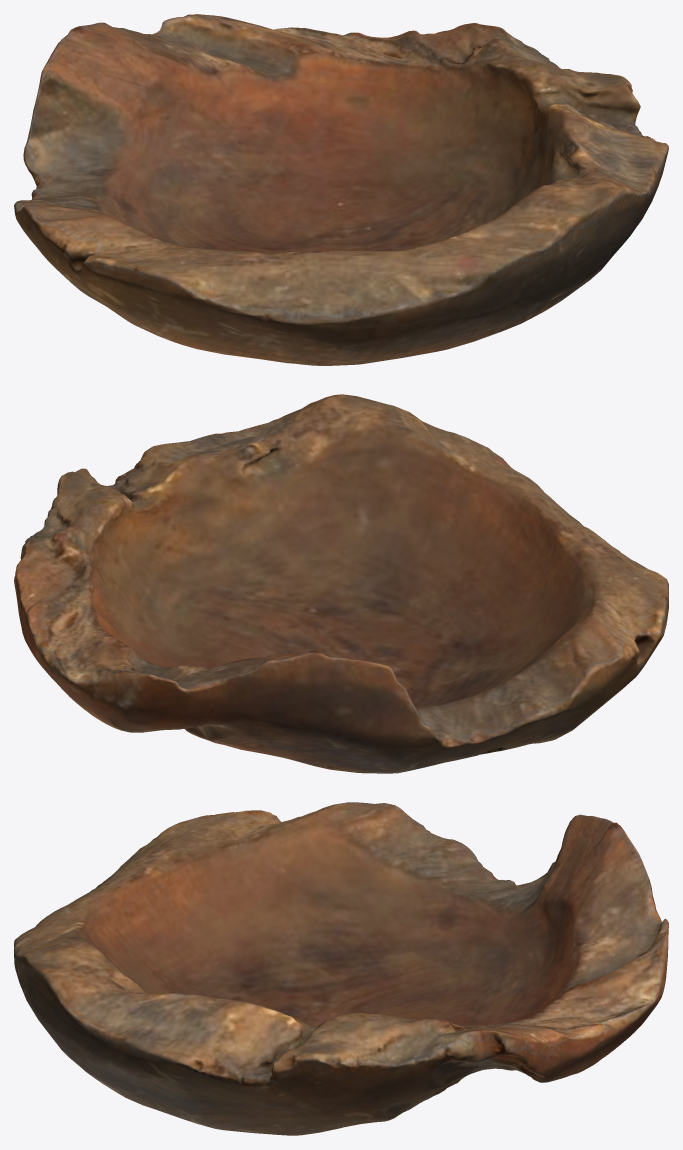
The model's file is wooden_bowl_01.glb.
The picture shows the model from 3 angles, top to bottom: view 1: azimuth 30°, elevation 25°; view 2: azimuth 150°, elevation 25°; view 3: azimuth 270°, elevation 25°; orthographic projection. The views are drawn at different scales.
Parts seen in each view (by area): view 1: wooden_bowl_01; view 2: wooden_bowl_01; view 3: wooden_bowl_01.
Part boxes in pixels (x1,y1,x2,y2): wooden_bowl_01: [14, 14, 668, 365]; wooden_bowl_01: [14, 394, 668, 773]; wooden_bowl_01: [14, 802, 668, 1135].
Bounding box in the file's own units: 0.3131 × 0.0937 × 0.3091.
Materials: 1 (1 with a texture image).
